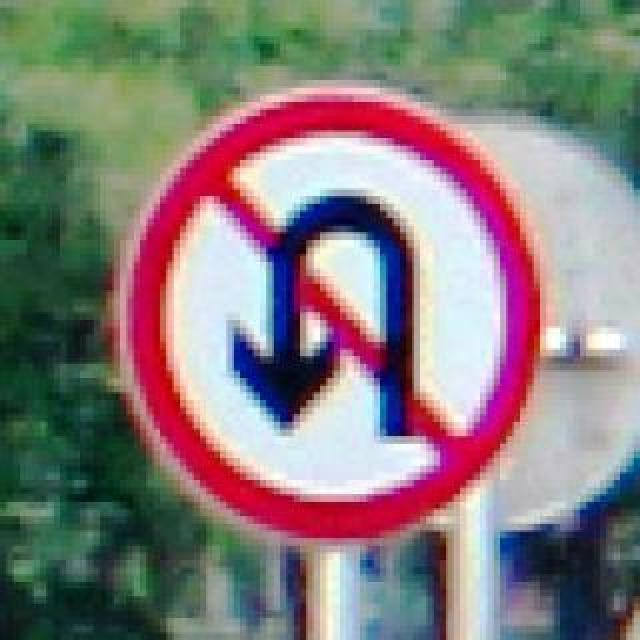no u turn: (100, 74, 548, 546)
